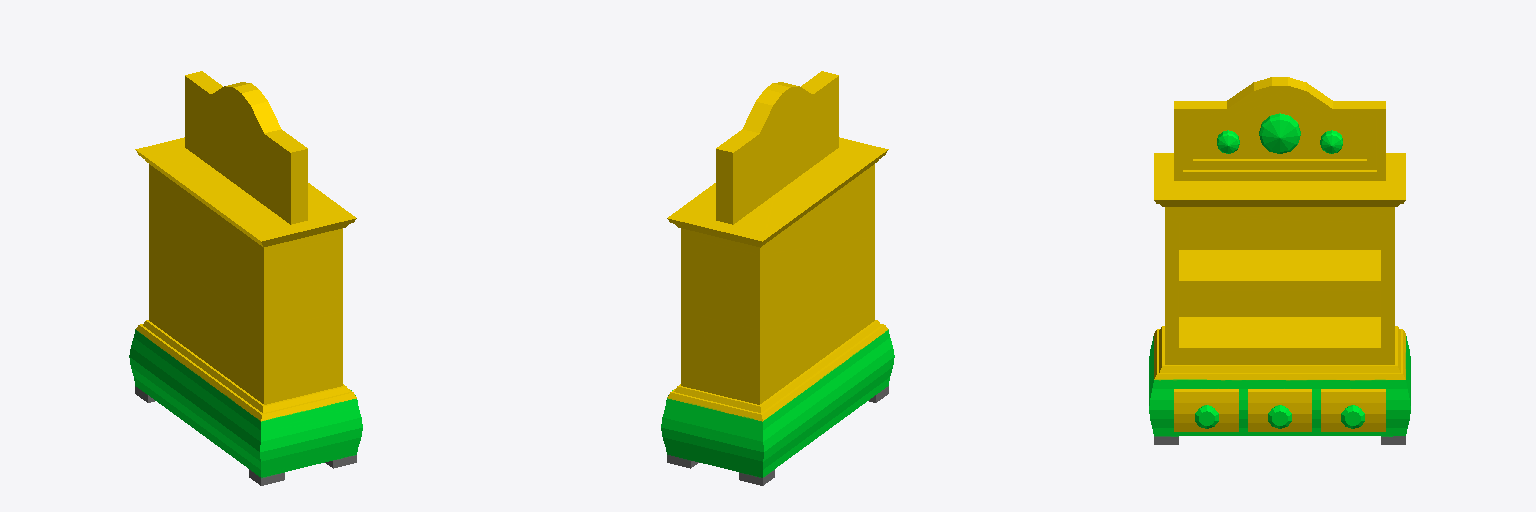
The picture shows the model from 3 angles: view 1: azimuth 30°, elevation 25°; view 2: azimuth 150°, elevation 25°; view 3: azimuth 270°, elevation 25°; orthographic projection.
Visible parts, largest first — view 1: Shelf; view 2: Shelf; view 3: Shelf.
Part boxes in pixels (bbox=[...]): Shelf: bbox=[129, 71, 362, 485]; Shelf: bbox=[661, 71, 894, 485]; Shelf: bbox=[1149, 77, 1410, 444].
Size of the model in its own units: 3.86 by 10.25 by 7.16.
Materials: 1 (1 with a texture image).